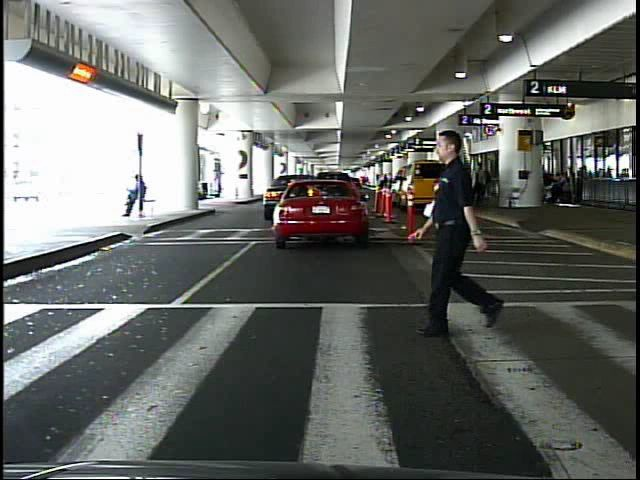person: (418, 114, 500, 336)
